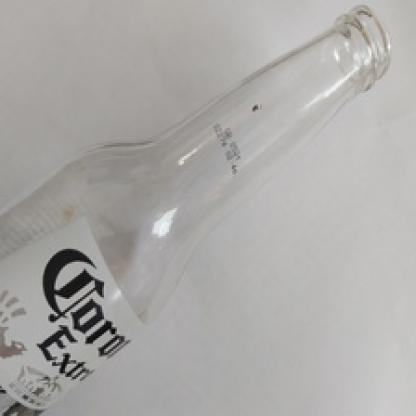Can: (3, 12, 392, 412)
